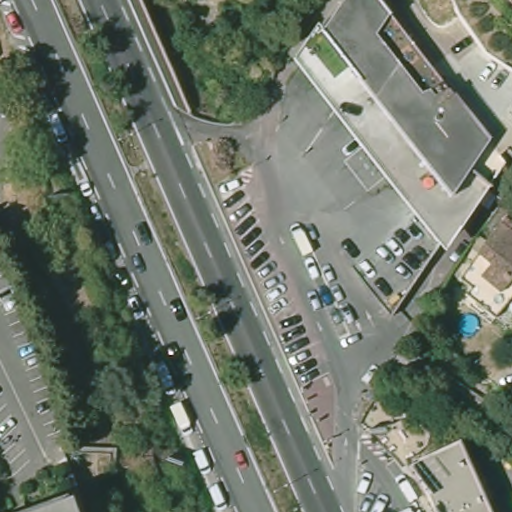pool: (454, 311, 483, 341)
